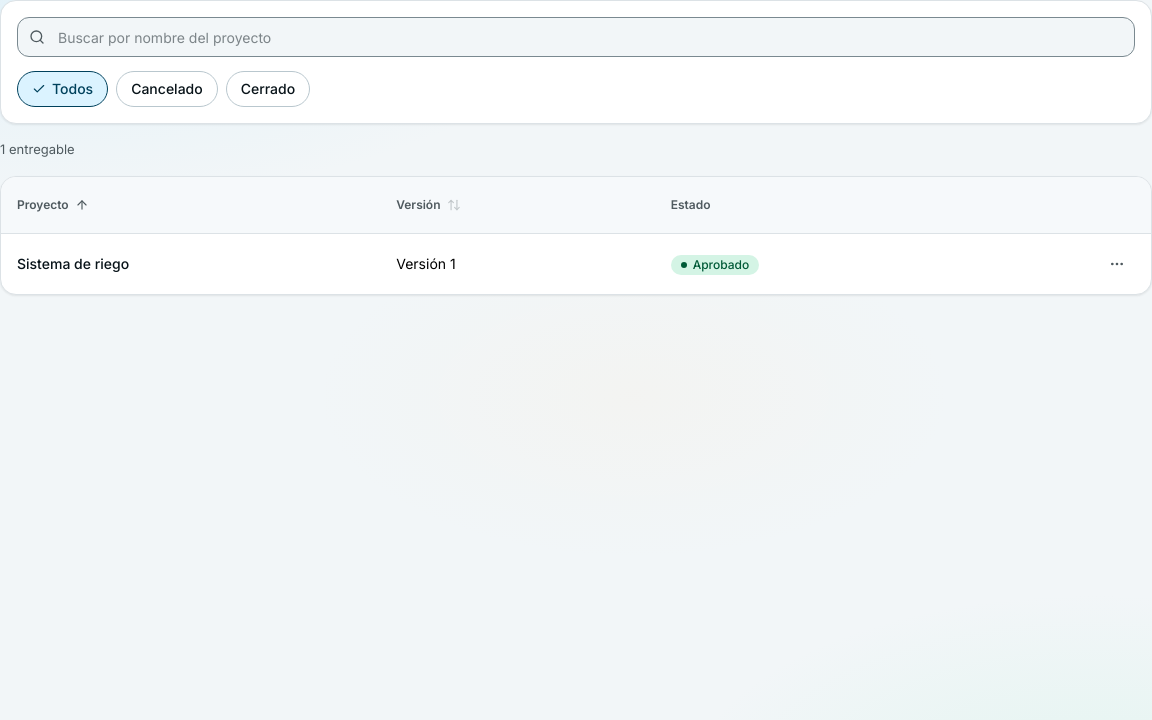
ConsultarEntregablesAsesor › "Cambiar estado" abre el panel del entregable elegido y cancelar lo cierra
This screenshot has width=1152, height=720.
What coordinates should you click on to do the following:
click the button named "Acciones del entregable de Sistema de riego"
I would click on:
 (1117, 264)
Its box is x1=1099 y1=246 x2=1135 y2=282.
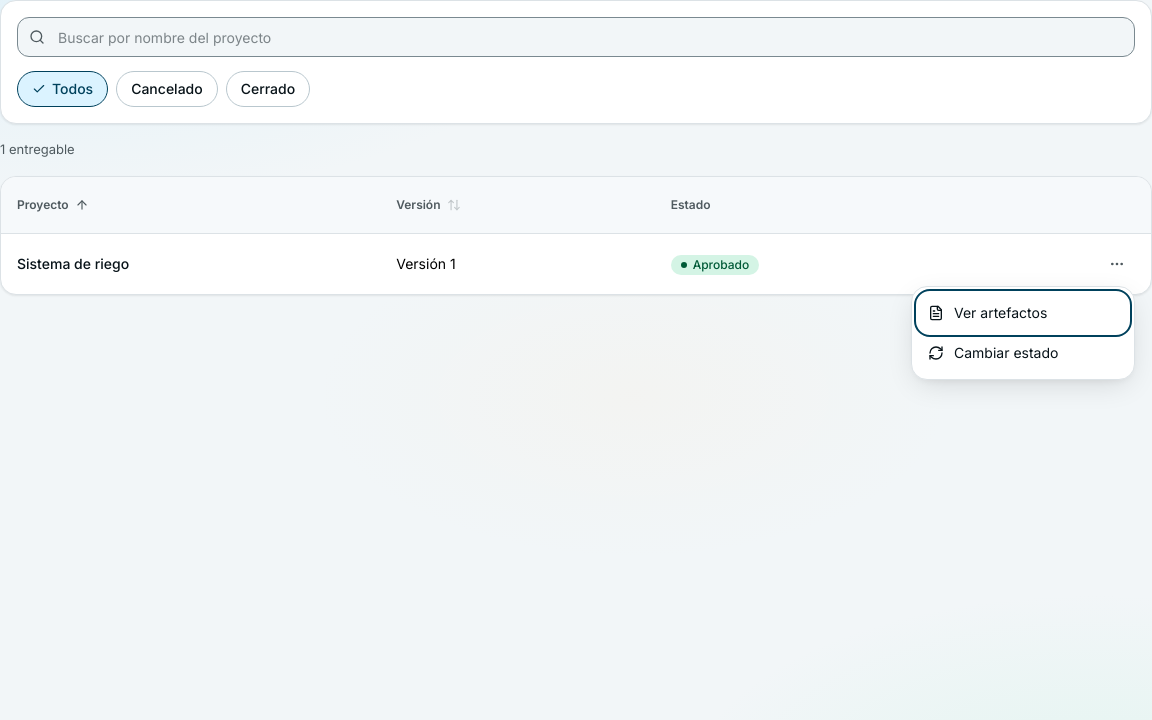
What coordinates should you click on to do the following:
click the menu item "Cambiar estado"
I would click on:
 (1023, 353)
Its box is x1=918 y1=333 x2=1128 y2=373.
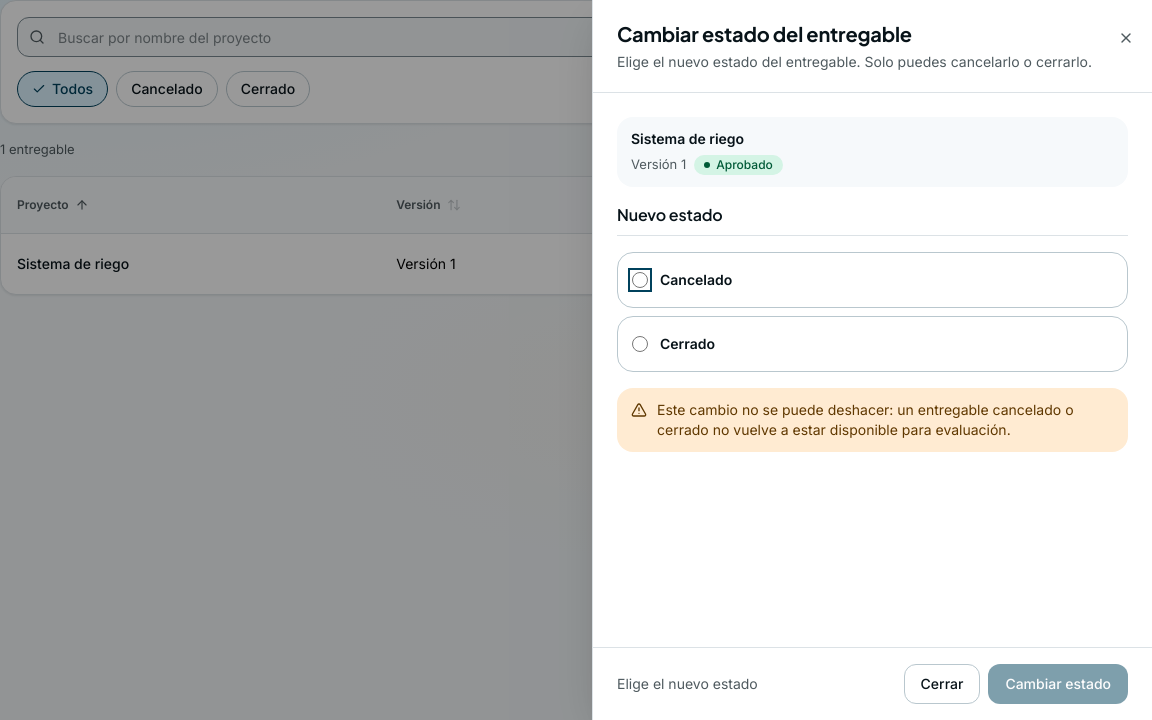
Expected: the heading "Cambiar estado del entregable" is shown, x1=617 y1=21 x2=912 y2=46
What coordinates should you click on to do the following:
click the button named "Cerrar panel"
I would click on:
 (1126, 38)
Its box is x1=1108 y1=20 x2=1144 y2=56.
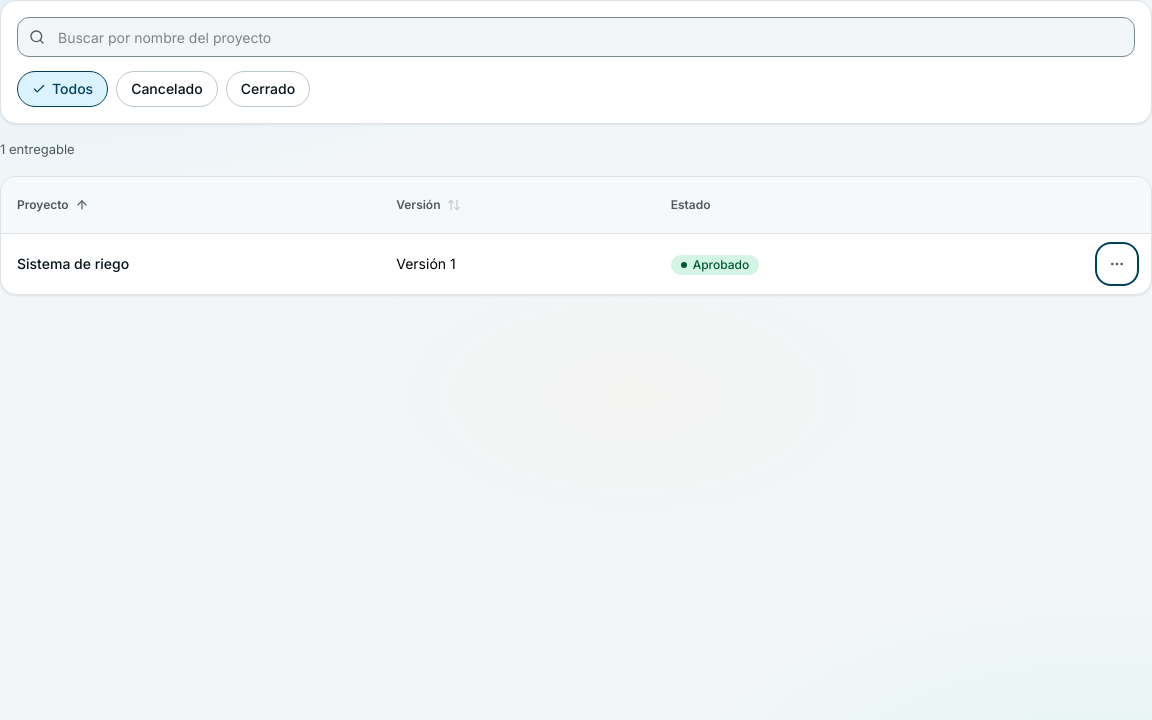
Expected: the heading "Cambiar estado del entregable" is gone
